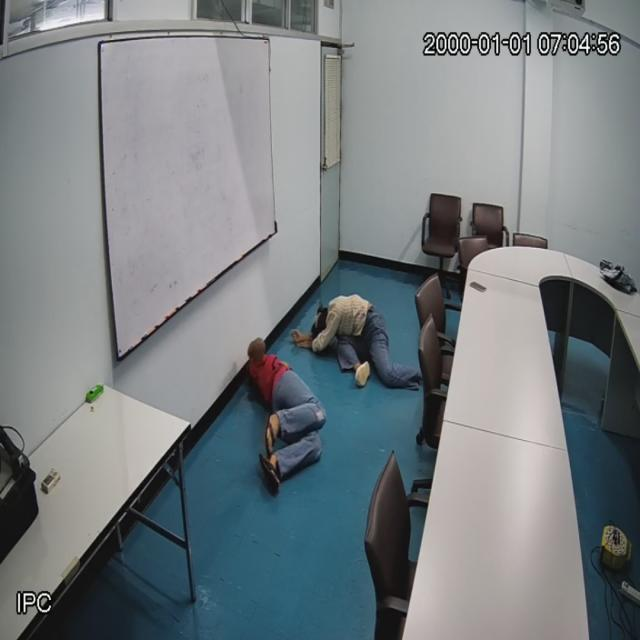fall: (241, 330, 333, 498), (303, 294, 428, 396)
